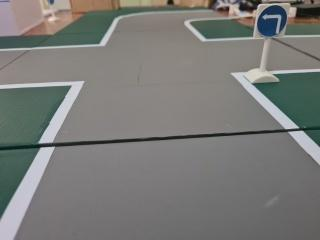left: (254, 3, 289, 39)
